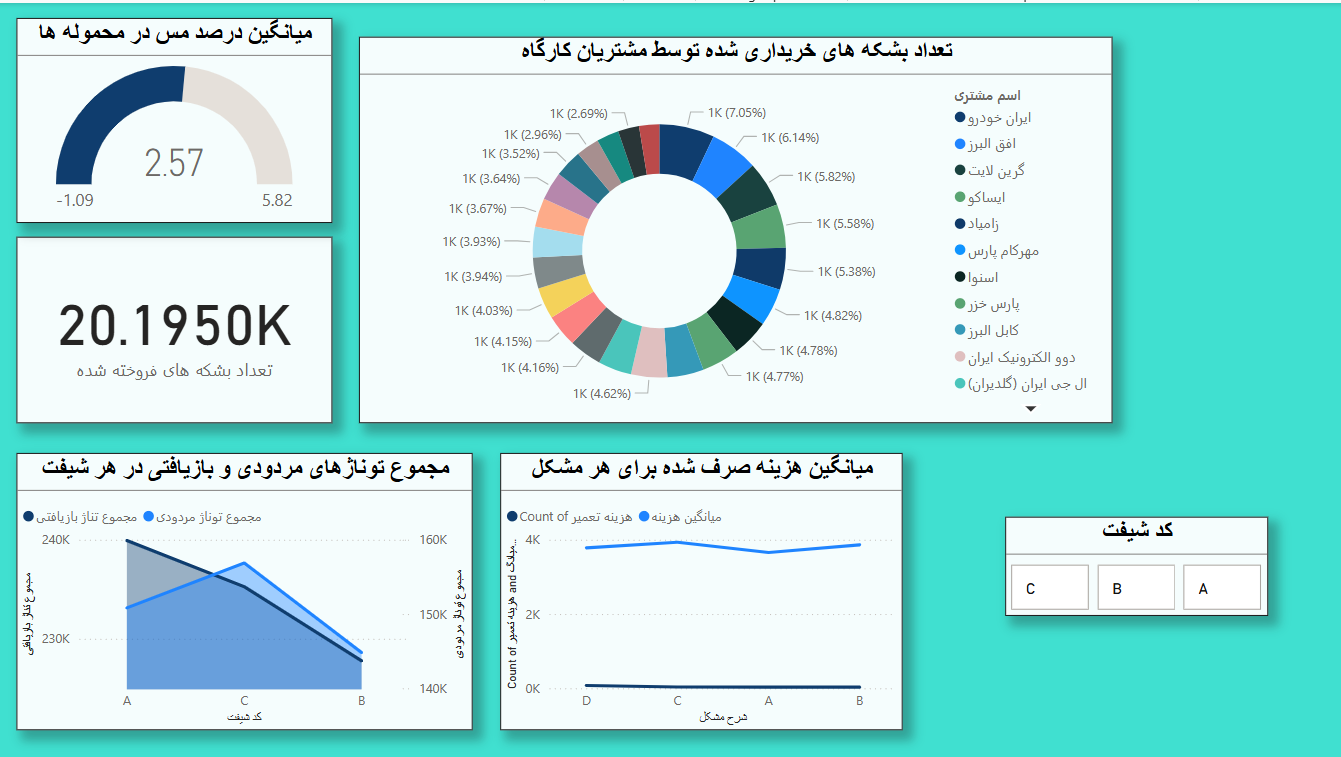

Layout of this report page (visuals, bound fields, positions):
{"tool":"powerbi","page":{"name":"مدیر ارشد","canvas":[1280,720],"ordinal":0},"visuals":[{"type":"lineChart","title":"میانگین هزینه صرف شده برای هر مشکل ","fields":{"Category":["نگهداری تعمیرات.شرح مشکل"],"Y":["CountNonNull(نگهداری تعمیرات.هزینه تعمیر)","نگهداری تعمیرات.میانگین هزینه"]},"box":[477.4,428.6,383.3,264.3],"z":0},{"type":"card","fields":{"Values":["محموله order.تعداد بشکه های فروخته شده"]},"box":[16.7,222.6,301.2,177.4],"z":1000},{"type":"donutChart","title":"تعداد بشکه های خریداری شده توسط مشتریان کارگاه","fields":{"Y":["محموله order.تعداد بشکه های فروخته شده"],"Category":["مشتری.اسم مشتری"]},"box":[342.9,32.1,717.9,367.9],"z":2000},{"type":"gauge","title":"میانگین درصد مس در محموله ها ","fields":{"Y":["محموله order.میانگین درصد مس"],"MaxValue":["محموله order.ماکزیمم درصد مس"],"MinValue":["محموله order.مینیمم درصد مس"]},"box":[16.7,14.3,301.2,195.2],"z":3000},{"type":"advancedSlicerVisual","fields":{"Values":["گزارش شیفت.کد شیفت"]},"box":[958.3,489.3,250,94],"z":4000},{"type":"areaChart","title":"مجموع توناژهای مردودی و بازیافتی در هر شیفت ","fields":{"Category":["گزارش شیفت.کد شیفت"],"Y":["جریان مواد.مجموع تناژ بازیافتی"],"Y2":["جریان مواد.مجموع توناژ مردودی"]},"box":[16.7,428.6,434.5,264.3],"z":5000}]}

Visuals, with their boxes in screenshot pixels (x1, y1, x2, y2), scaled from the page's 1280x720 canvas onto the 1341x757 screenshot:
"میانگین هزینه صرف شده برای هر مشکل " lineChart: 500:451:902:729
card - محموله order.تعداد بشکه های فروخته شده: 17:234:333:421
"تعداد بشکه های خریداری شده توسط مشتریان کارگاه" donutChart: 359:34:1111:421
"میانگین درصد مس در محموله ها " gauge: 17:15:333:220
advancedSlicerVisual - گزارش شیفت.کد شیفت: 1004:514:1266:613
"مجموع توناژهای مردودی و بازیافتی در هر شیفت " areaChart: 17:451:473:729
